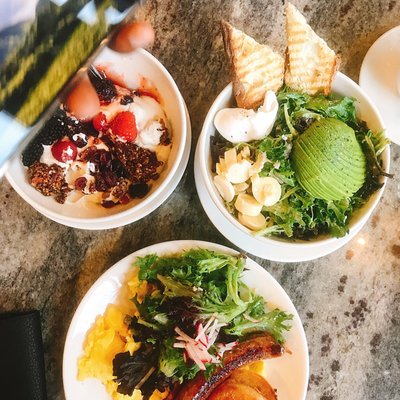sushi: (193, 56, 395, 264), (3, 19, 192, 231), (65, 239, 312, 400), (358, 21, 400, 152)
